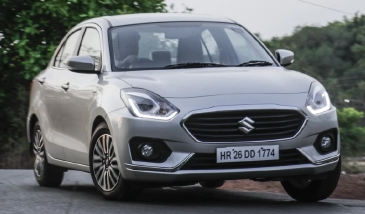car: (22, 12, 343, 202)
